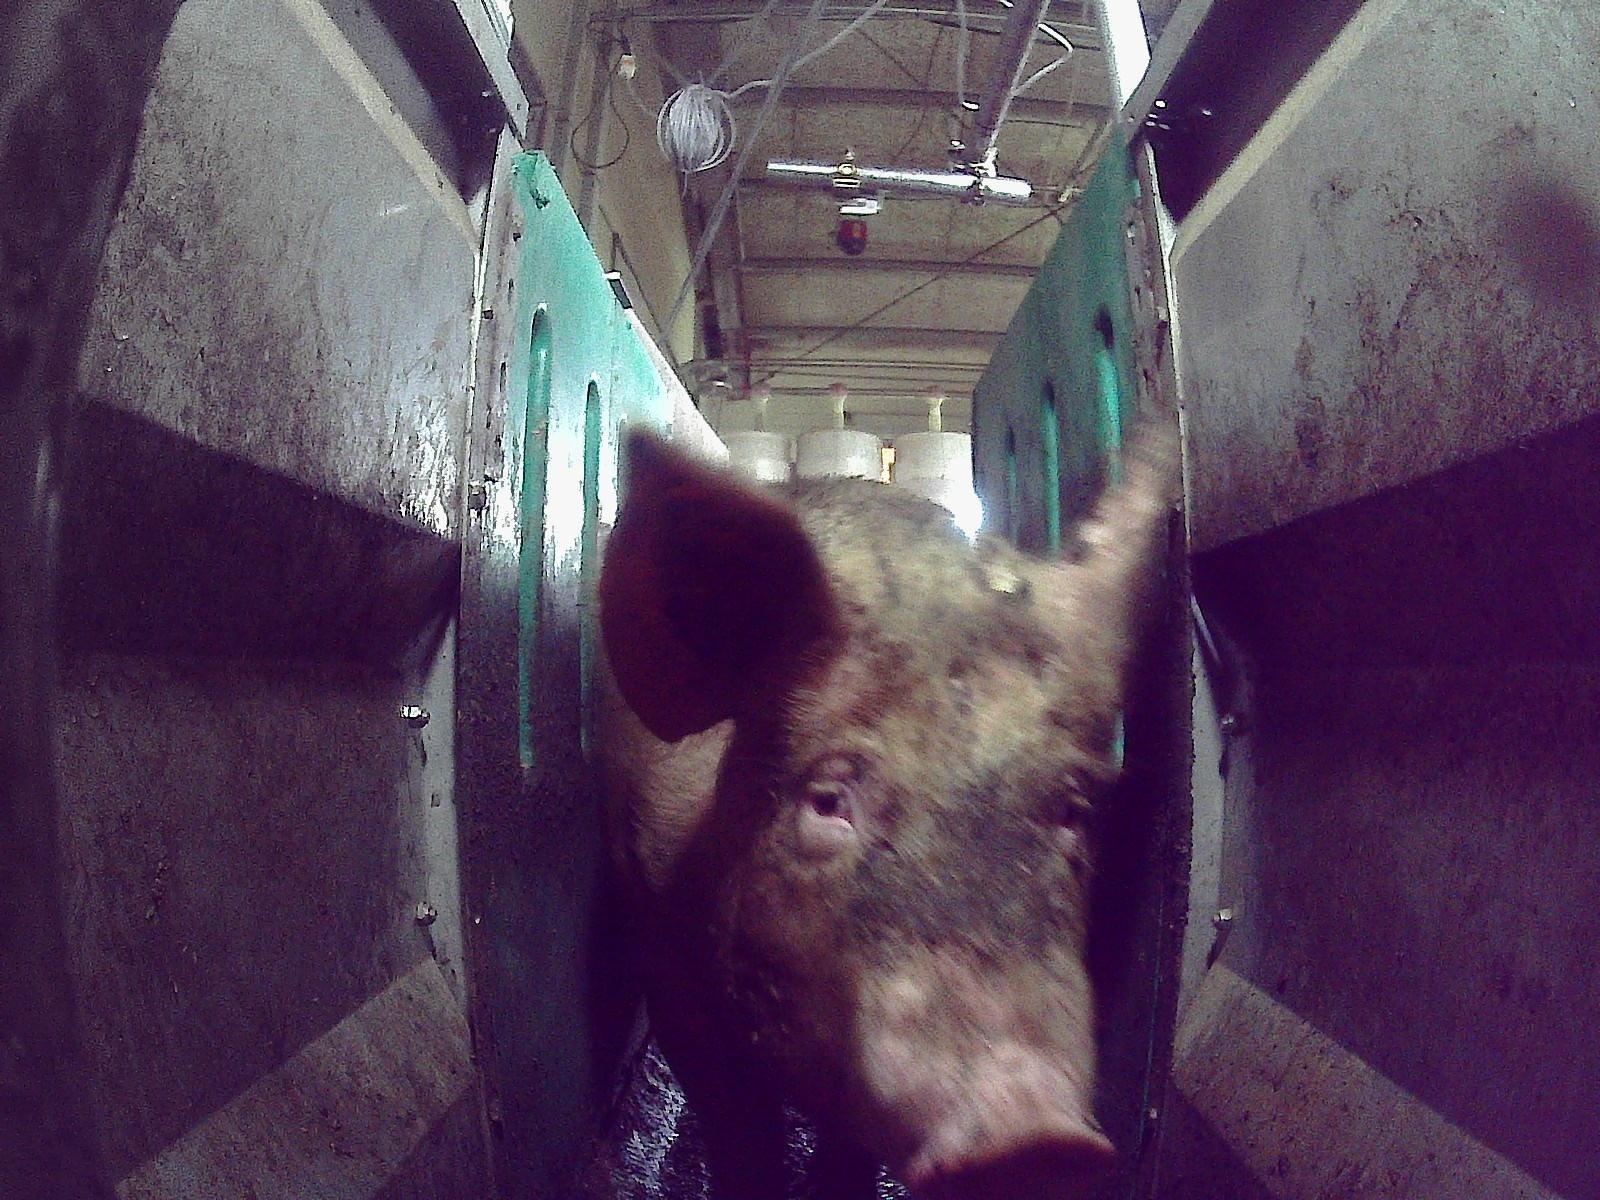Face: (717, 619, 1117, 1199)
